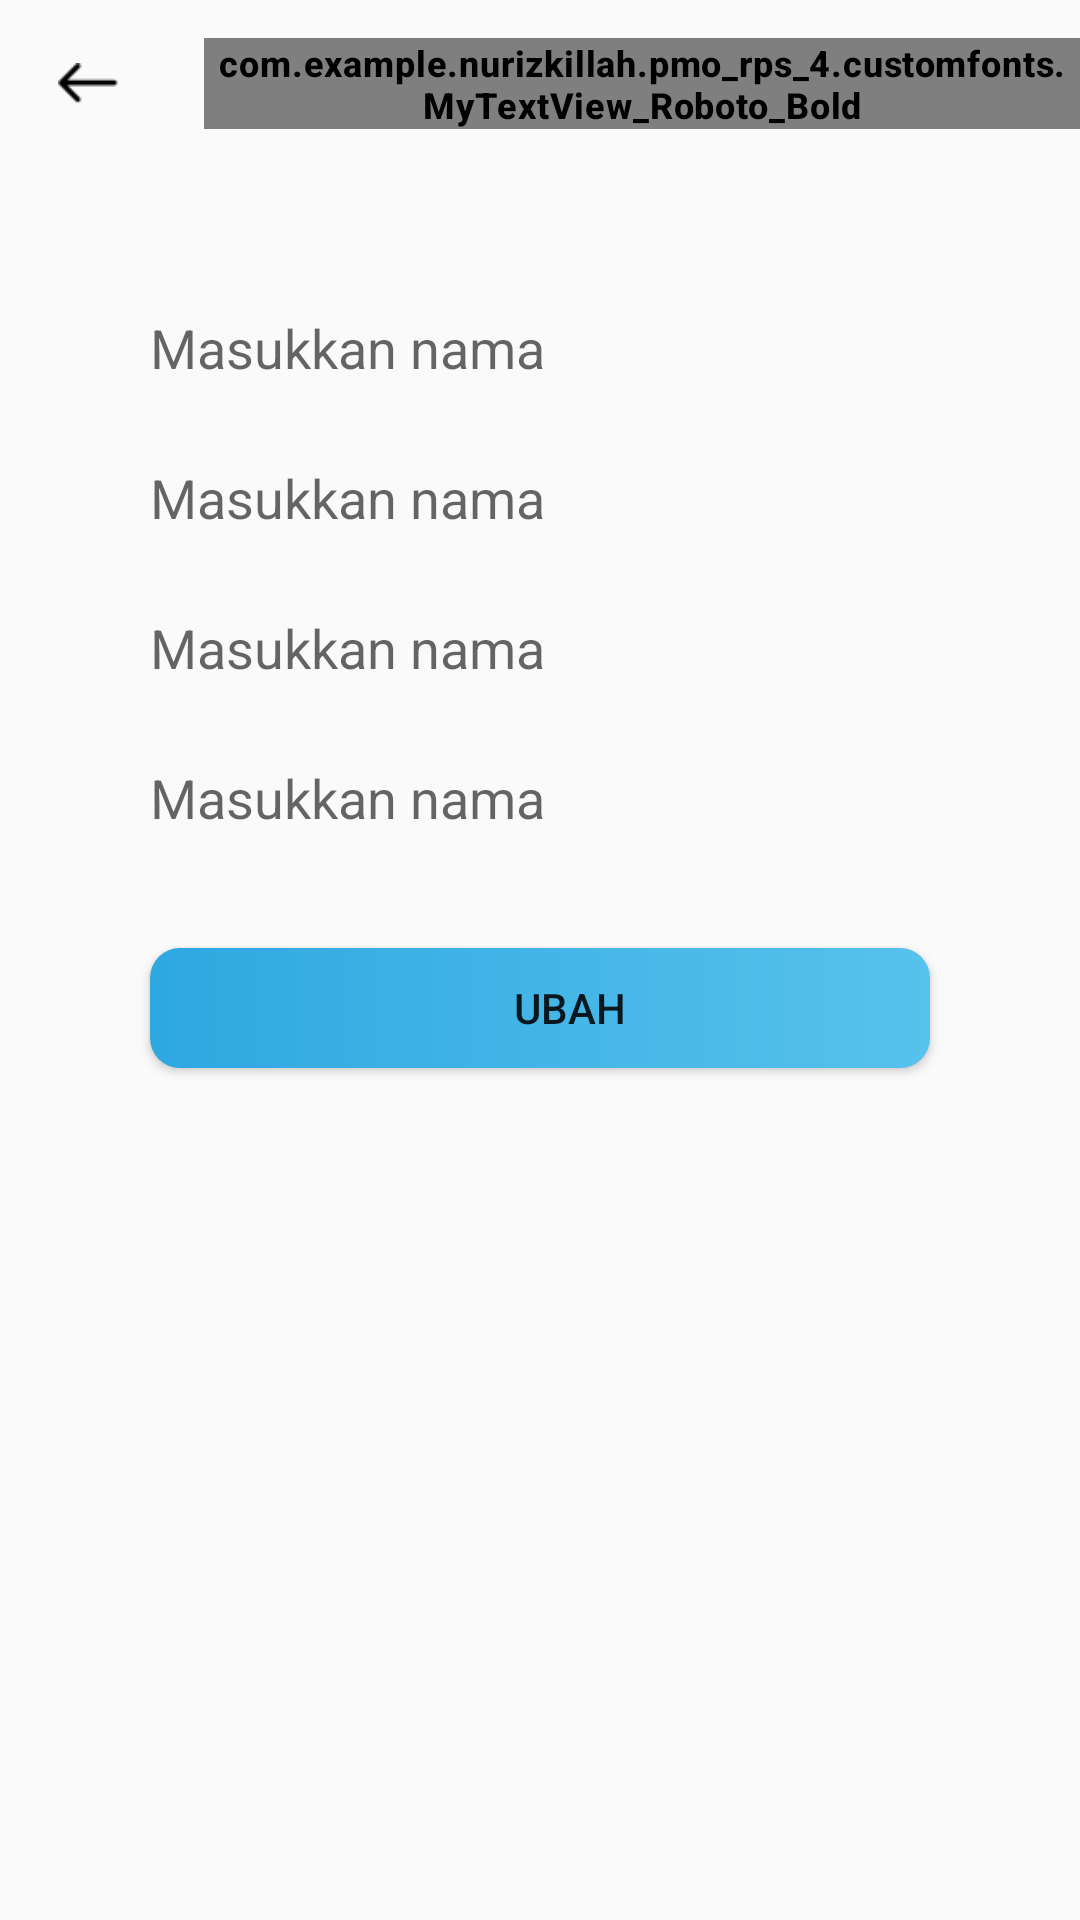

Where icons sit on this 1080px x 1920px app screen, as (x1, y1, x2, y2):
back: (58, 63, 118, 103)
